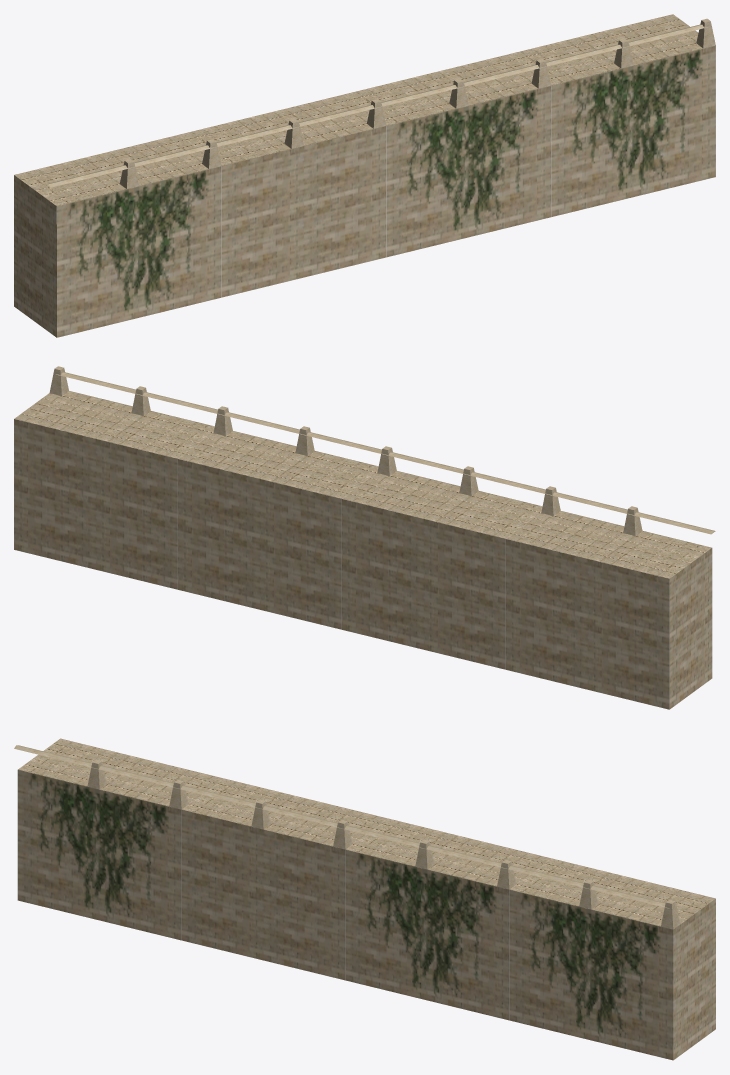
The model's file is thm_nboo_thed_imprv_seawall_straight_s01_4seg_l3.fbx.
3 renders of one model, top to bottom at view 1: azimuth 30°, elevation 25°; view 2: azimuth 150°, elevation 25°; view 3: azimuth 330°, elevation 25°, orthographic.
Visible parts, largest first — view 1: mesh_node; view 2: mesh_node; view 3: mesh_node.
Boxes of the visible parts, bbox=[...] form: mesh_node: bbox=[14, 14, 715, 337]; mesh_node: bbox=[14, 366, 715, 709]; mesh_node: bbox=[14, 738, 715, 1060].
Bounding box in the file's own units: 32.23 × 7.2 × 3.6.
